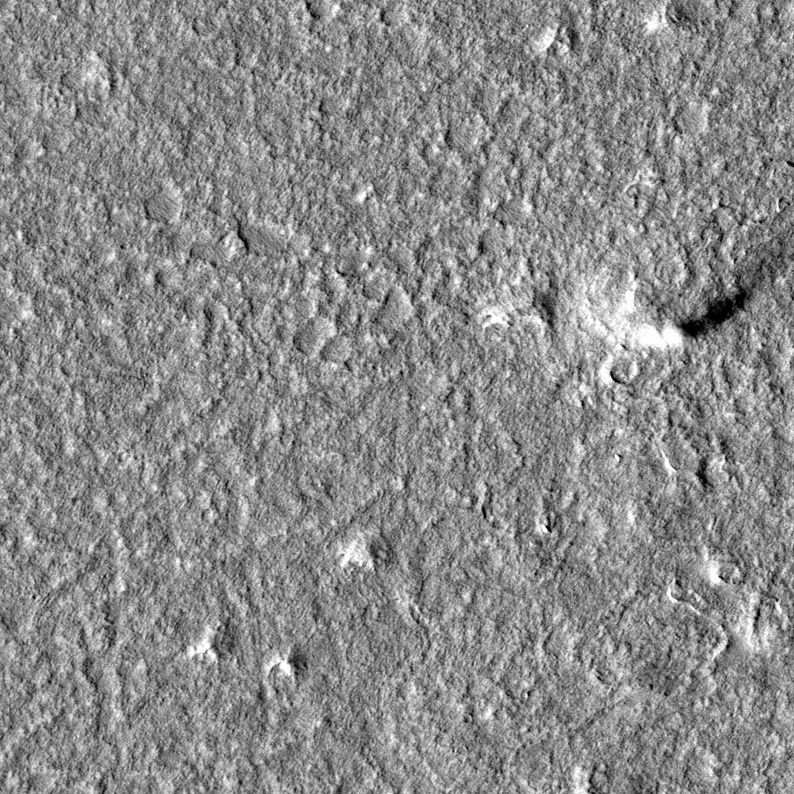dust_devil: (630, 229, 794, 354)
